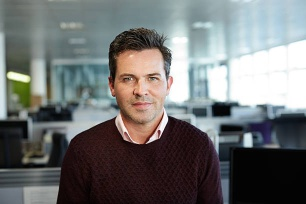male: (107, 33, 174, 127)
